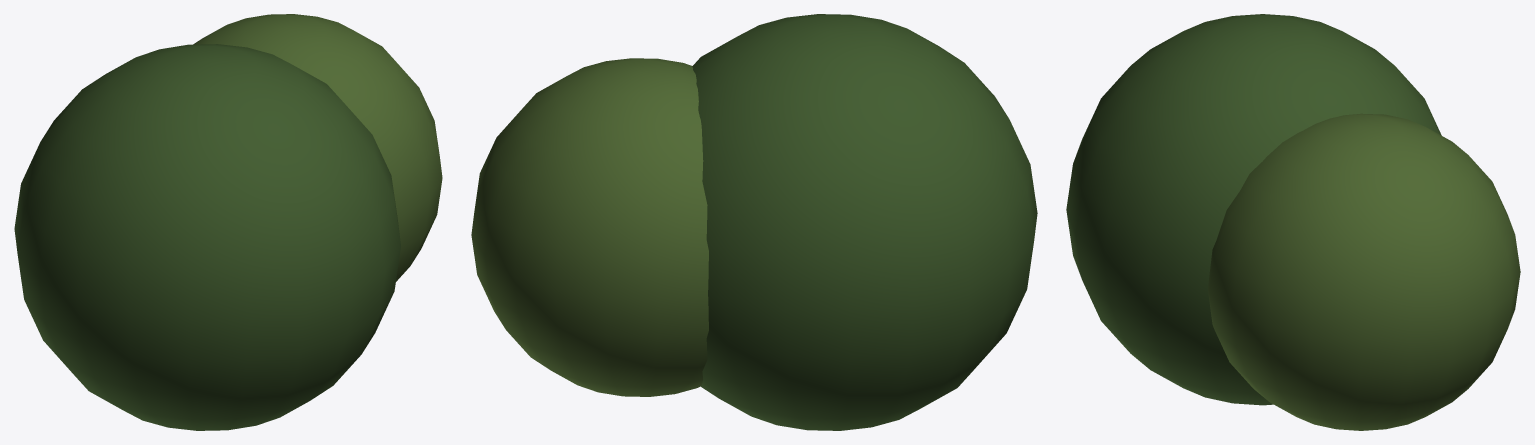
The model's file is Bush_0.fbx.
The picture shows the model from 3 angles, left to right: view 1: azimuth 30°, elevation 25°; view 2: azimuth 150°, elevation 25°; view 3: azimuth 270°, elevation 25°; orthographic projection. The views are drawn at different scales.
Visible parts, largest first — view 1: Leaf0, Leaf1; view 2: Leaf0, Leaf1; view 3: Leaf1, Leaf0.
Boxes of the visible parts, x1,y1,x2,y2 form: Leaf0: (14, 44, 400, 430); Leaf1: (193, 14, 442, 281); Leaf0: (692, 14, 1037, 430); Leaf1: (471, 58, 708, 396); Leaf1: (1208, 113, 1520, 430); Leaf0: (1066, 14, 1441, 405).
Size of the model in its own units: 205 by 185 by 160.
